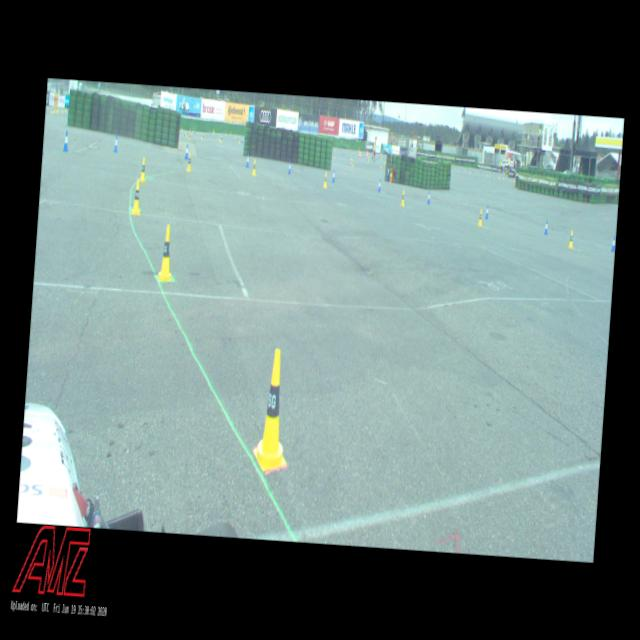blue_cone: (112, 134, 119, 152), (63, 130, 69, 151), (610, 236, 616, 251), (184, 144, 189, 158), (484, 205, 488, 218), (245, 153, 249, 166), (544, 220, 548, 233), (427, 190, 430, 203), (332, 168, 334, 182), (378, 178, 380, 192), (288, 161, 290, 173)
yellow_cone: (252, 347, 294, 472), (157, 224, 176, 281), (130, 178, 142, 214), (139, 158, 147, 182), (568, 230, 574, 248), (322, 172, 328, 188), (186, 152, 191, 170), (400, 190, 405, 206), (478, 208, 482, 226), (252, 158, 256, 174)
